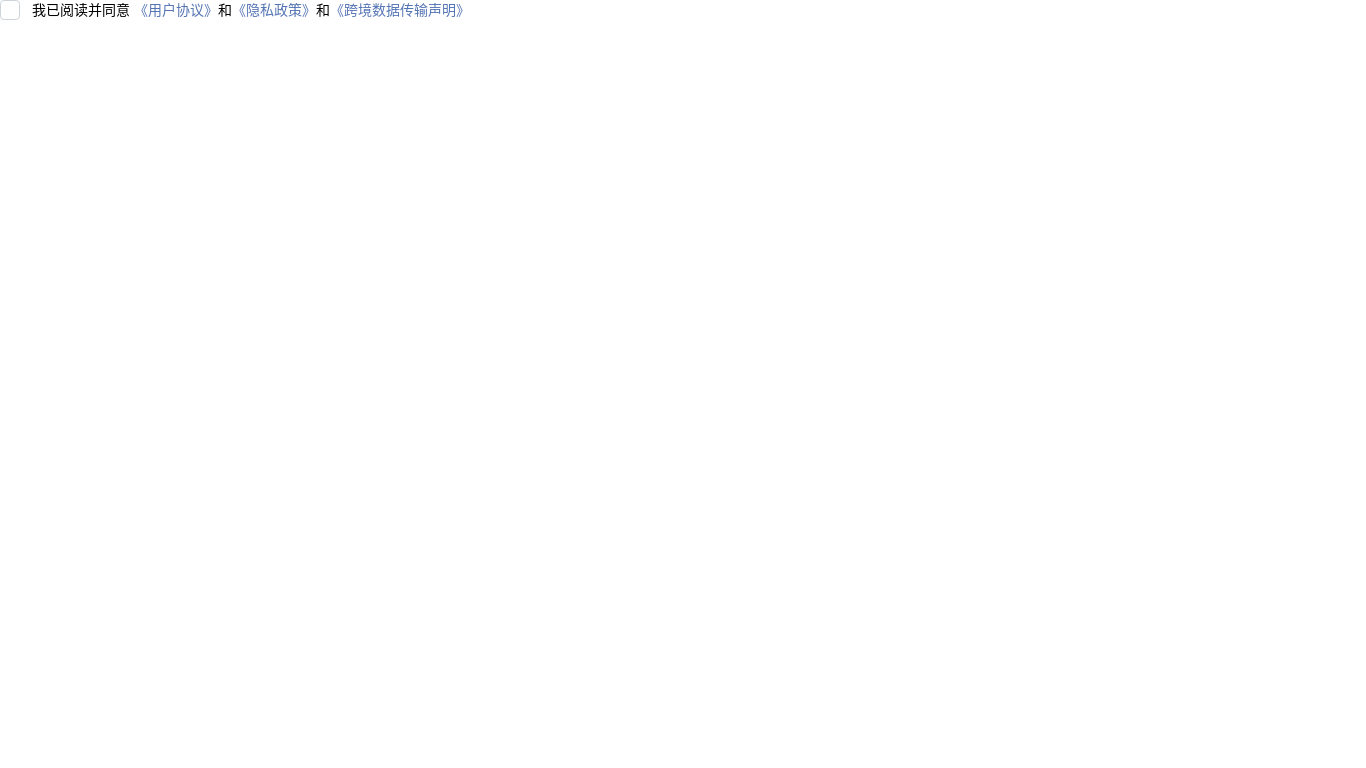
Scenario: ComplianceConsent document rendering › keeps terms free of raw HTML
Click the button "《用户协议》" at point(176, 10), box [134,0,218,20]
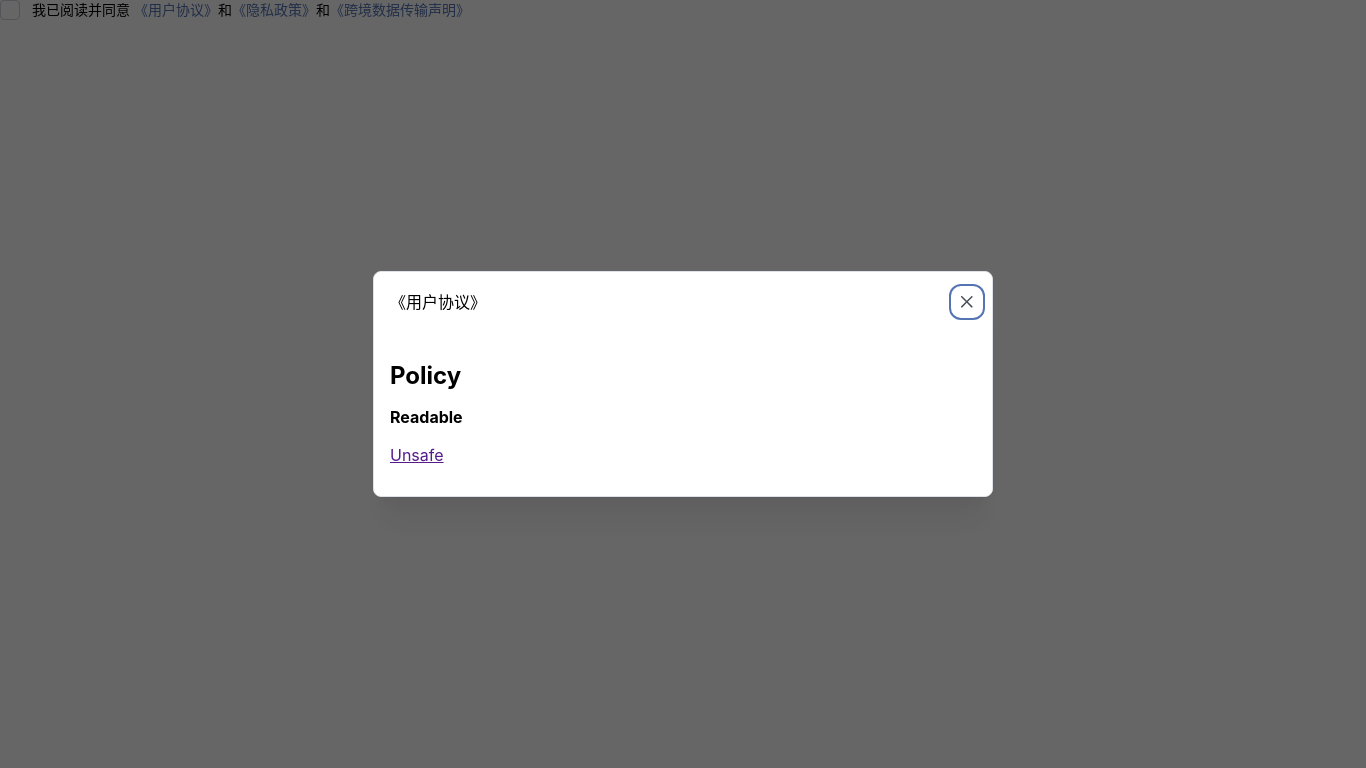
Now the heading "Policy" is shown, box [390,361,461,390]
